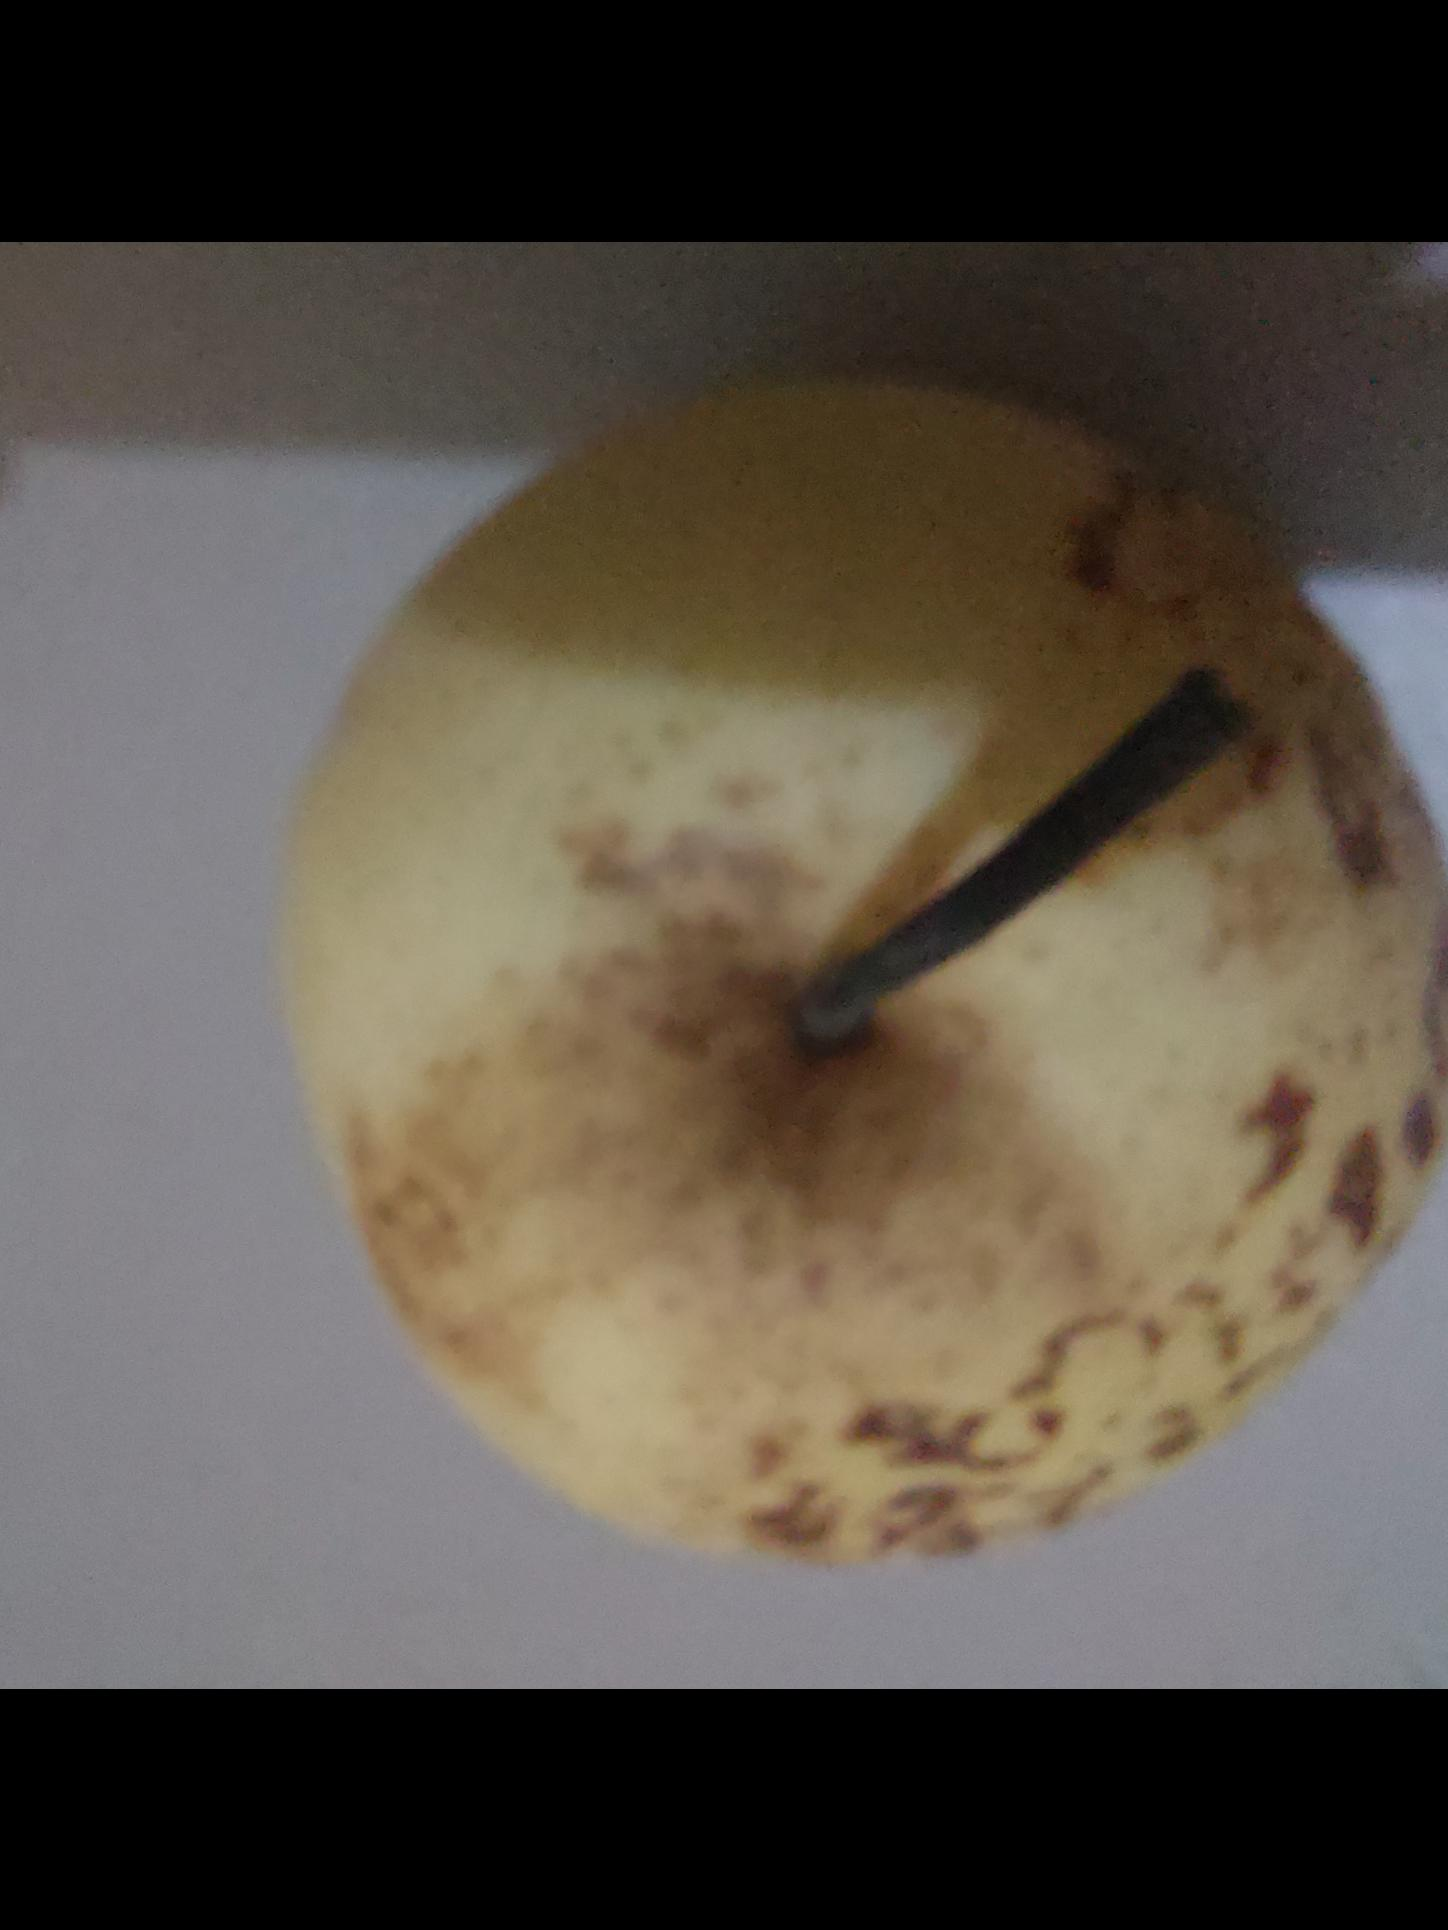Bad Pear: (312, 388, 1442, 1545)
